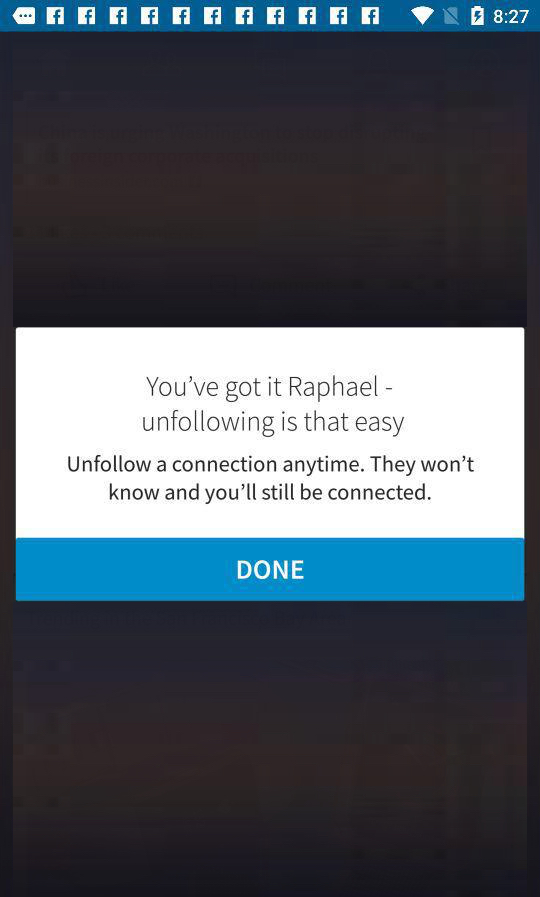Modal: (16, 327, 525, 602)
Text: (68, 455, 475, 505), (143, 375, 405, 438)
TextButton: (16, 538, 525, 602)
UpperTaskBar: (1, 1, 540, 33)
